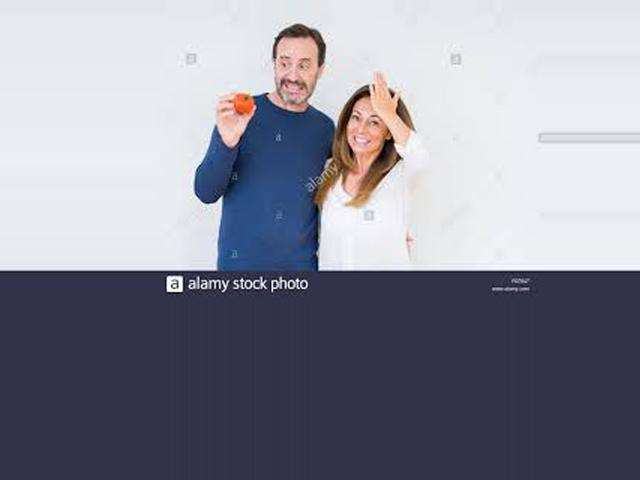tomato: (234, 91, 254, 112)
